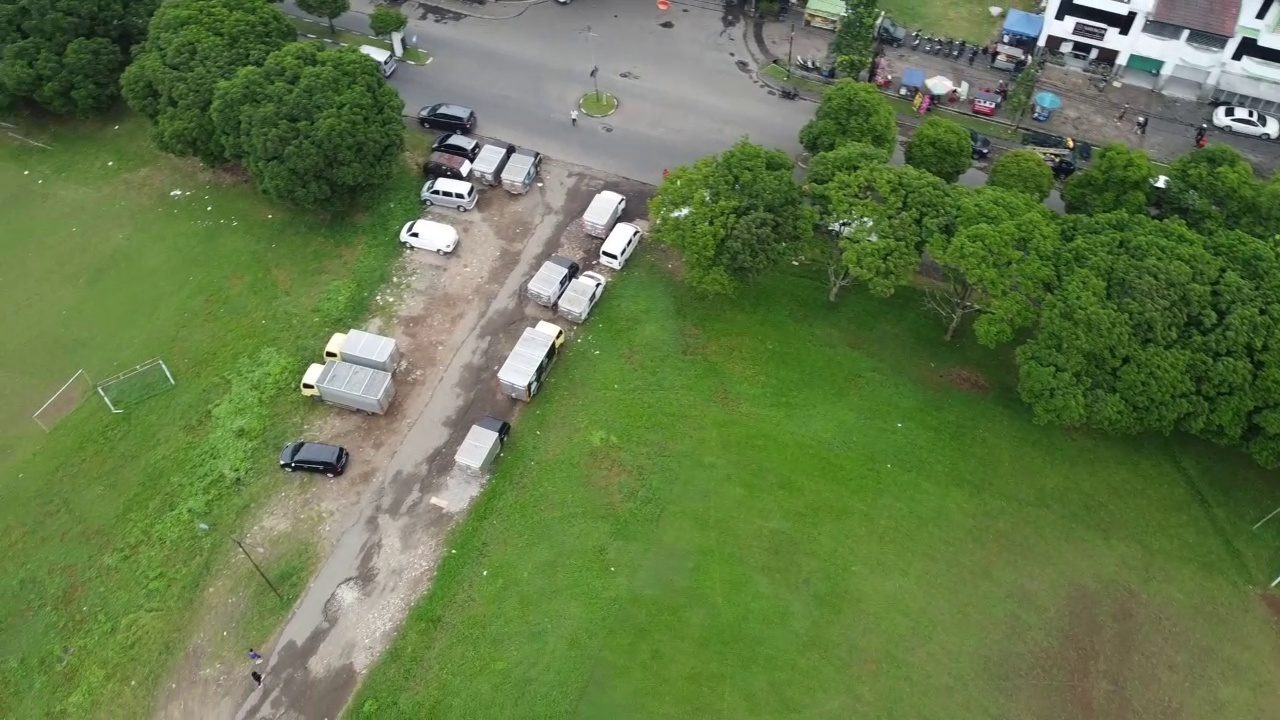mobil: (278, 434, 351, 486), (1214, 98, 1280, 151), (592, 216, 647, 275), (409, 93, 482, 135), (424, 174, 481, 214), (405, 217, 461, 256), (425, 147, 473, 179), (431, 130, 481, 158)
